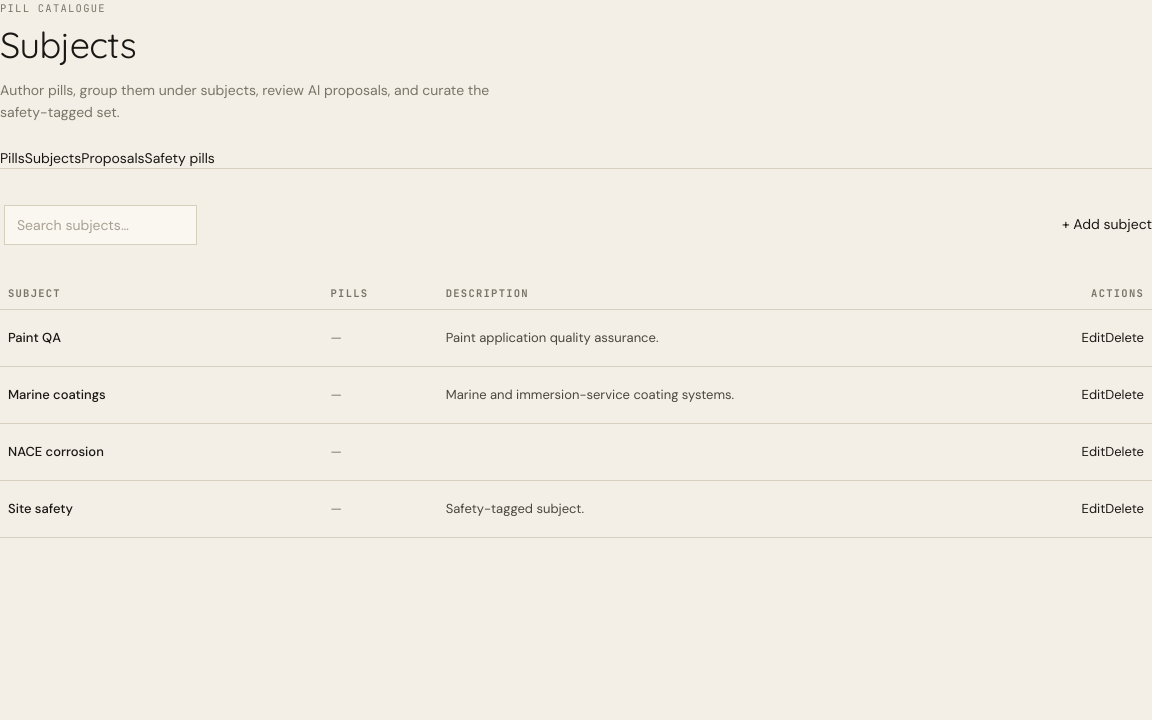
Test: subjects tab — create modal › projects FastAPI 422 field errors onto the form via applyApiErrorToForm
Click the button with test id "subjects-add-button" at (1107, 225), box [1062,205,1151,245]
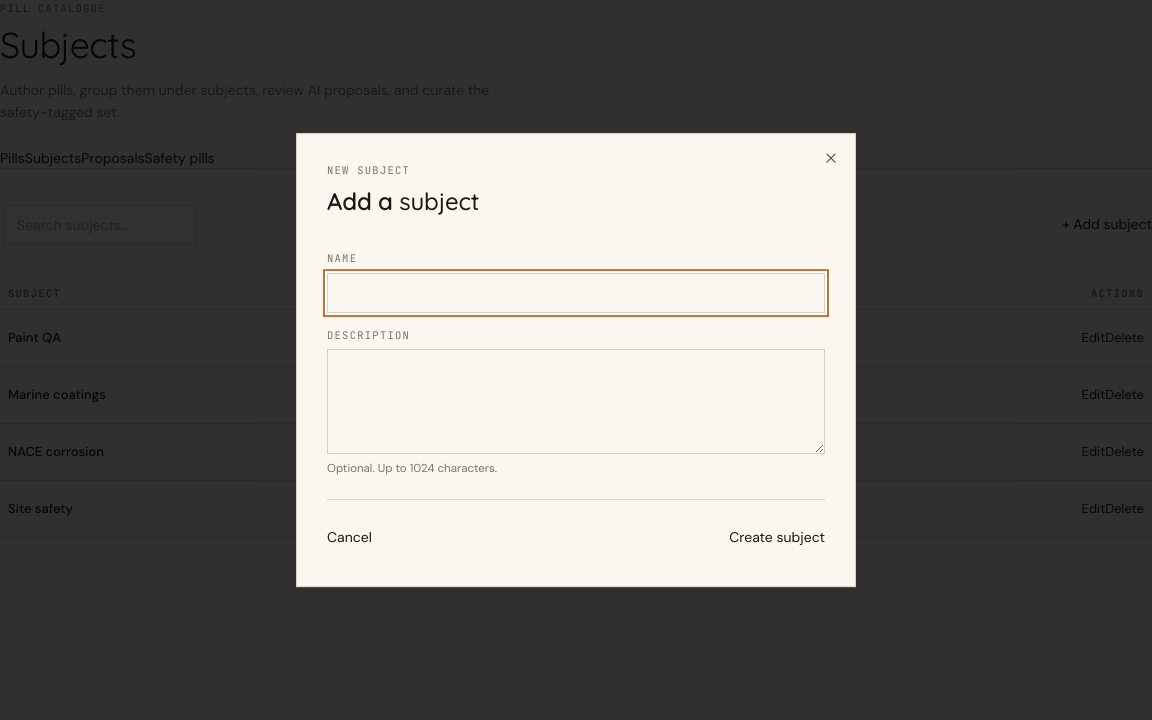
Type "Duplicate" into the field with test id "subject-modal-name" at (576, 293), box [327,273,825,313]
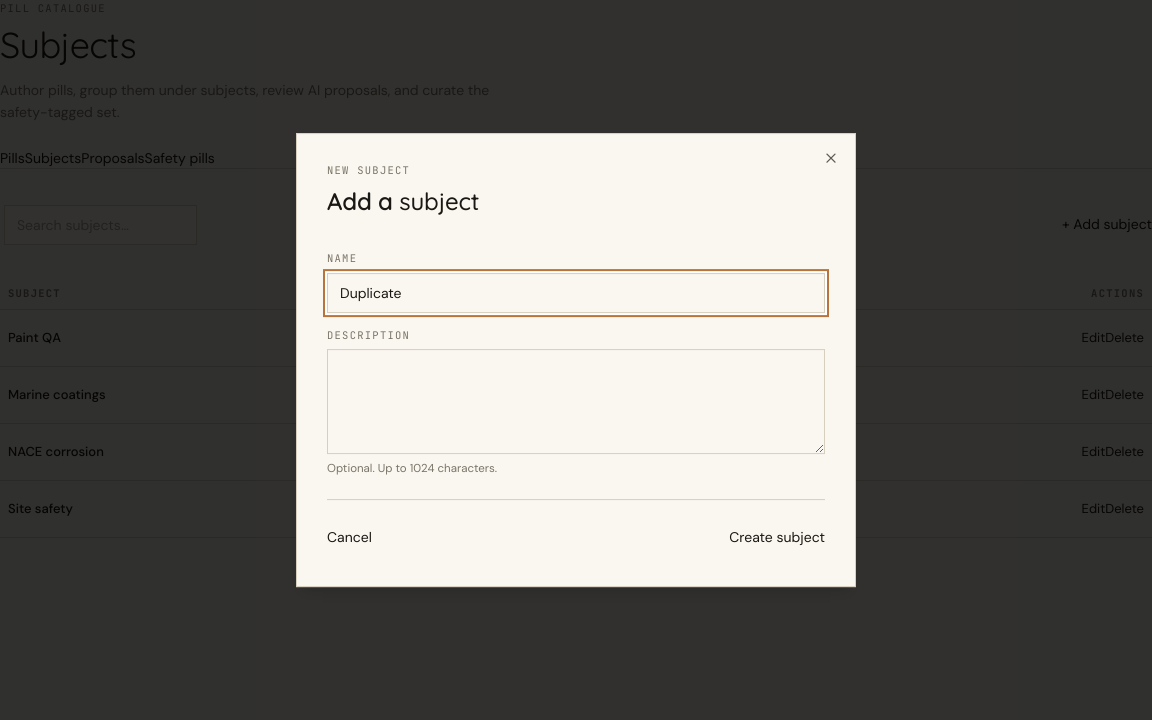
Click the button with test id "subject-modal-submit" at (777, 538), box [729,518,825,558]
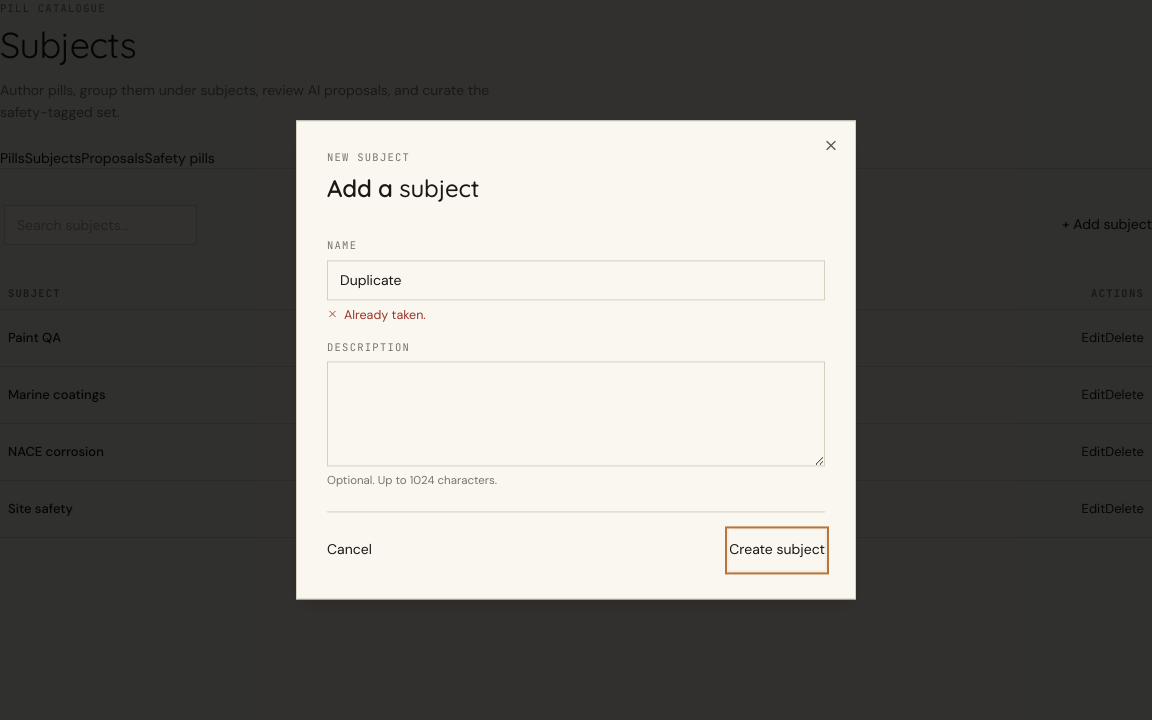
Now the text "Already taken." is shown, box [344,306,426,325]
